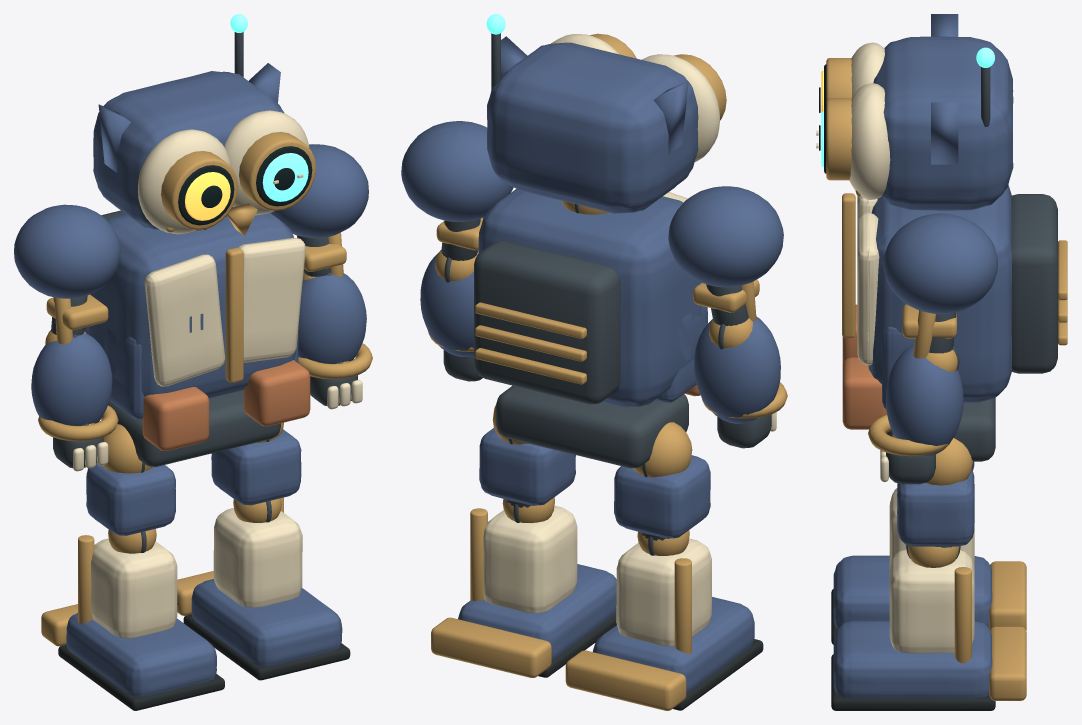
Rendered from owl_ranger.t3.glb.
3 renders of one model, left to right at view 1: azimuth 30°, elevation 25°; view 2: azimuth 150°, elevation 25°; view 3: azimuth 270°, elevation 25°, orthographic. The views are drawn at different scales.
Parts seen in each view (by area): view 1: slot_torso__clay_warm_ivory__clay, slot_torso__clay_midnight_indigo__clay, slot_legL__clay_midnight_indigo__clay, slot_legR__clay_midnight_indigo__clay, slot_head__clay_midnight_indigo__clay, slot_armL__clay_midnight_indigo__clay, slot_legR__clay_warm_ivory__clay, slot_legL__clay_warm_ivory__clay, slot_torso__burnished_copper__protected, slot_head__clay_warm_ivory__clay, armL_elbow__clay_midnight_indigo__clay, armR_elbow__clay_midnight_indigo__clay (+20 smaller); view 2: slot_head__clay_midnight_indigo__clay, slot_torso__forged_bluelead_steel__protected, slot_torso__clay_midnight_indigo__clay, slot_legL__clay_midnight_indigo__clay, slot_legR__clay_midnight_indigo__clay, slot_armL__clay_midnight_indigo__clay, slot_legL__worn_warm_brass__protected, slot_legR__clay_warm_ivory__clay, slot_armR__clay_midnight_indigo__clay, slot_legL__clay_warm_ivory__clay, slot_legR__worn_warm_brass__protected, armL_elbow__clay_midnight_indigo__clay (+13 smaller); view 3: slot_head__clay_midnight_indigo__clay, slot_legR__clay_midnight_indigo__clay, slot_torso__clay_midnight_indigo__clay, slot_torso__forged_bluelead_steel__protected, slot_armR__clay_midnight_indigo__clay, slot_legR__worn_warm_brass__protected, slot_legR__clay_warm_ivory__clay, armR_elbow__clay_midnight_indigo__clay, slot_head__clay_warm_ivory__clay, slot_legL__clay_midnight_indigo__clay, slot_torso__clay_warm_ivory__clay, slot_head__worn_warm_brass__protected (+13 smaller).
Part boxes in pixels (x1=…): slot_torso__clay_warm_ivory__clay: x1=144, y1=237, x2=305, y2=386; slot_torso__clay_midnight_indigo__clay: x1=85, y1=213, x2=298, y2=419; slot_legL__clay_midnight_indigo__clay: x1=66, y1=463, x2=216, y2=696; slot_legR__clay_midnight_indigo__clay: x1=191, y1=429, x2=342, y2=666; slot_head__clay_midnight_indigo__clay: x1=93, y1=71, x2=284, y2=229; slot_armL__clay_midnight_indigo__clay: x1=14, y1=204, x2=120, y2=298; slot_legR__clay_warm_ivory__clay: x1=213, y1=508, x2=302, y2=607; slot_legL__clay_warm_ivory__clay: x1=91, y1=538, x2=177, y2=638; slot_torso__burnished_copper__protected: x1=142, y1=360, x2=310, y2=450; slot_head__clay_warm_ivory__clay: x1=138, y1=110, x2=309, y2=234; armL_elbow__clay_midnight_indigo__clay: x1=31, y1=333, x2=112, y2=425; armR_elbow__clay_midnight_indigo__clay: x1=298, y1=273, x2=366, y2=363; slot_head__clay_midnight_indigo__clay: x1=487, y1=42, x2=698, y2=213; slot_torso__forged_bluelead_steel__protected: x1=474, y1=204, x2=688, y2=468; slot_torso__clay_midnight_indigo__clay: x1=478, y1=189, x2=707, y2=407; slot_legL__clay_midnight_indigo__clay: x1=592, y1=455, x2=754, y2=692; slot_legR__clay_midnight_indigo__clay: x1=458, y1=428, x2=616, y2=659; slot_armL__clay_midnight_indigo__clay: x1=668, y1=186, x2=783, y2=287; slot_legL__worn_warm_brass__protected: x1=565, y1=422, x2=692, y2=710; slot_legR__clay_warm_ivory__clay: x1=483, y1=506, x2=577, y2=613; slot_armR__clay_midnight_indigo__clay: x1=401, y1=121, x2=513, y2=221; slot_legL__clay_warm_ivory__clay: x1=616, y1=538, x2=711, y2=646; slot_legR__worn_warm_brass__protected: x1=431, y1=405, x2=554, y2=677; armL_elbow__clay_midnight_indigo__clay: x1=694, y1=316, x2=780, y2=423; slot_head__clay_midnight_indigo__clay: x1=873, y1=36, x2=1013, y2=210; slot_legR__clay_midnight_indigo__clay: x1=833, y1=469, x2=992, y2=698; slot_torso__clay_midnight_indigo__clay: x1=868, y1=185, x2=1012, y2=409; slot_torso__forged_bluelead_steel__protected: x1=886, y1=194, x2=1057, y2=461; slot_armR__clay_midnight_indigo__clay: x1=883, y1=213, x2=997, y2=314; slot_legR__worn_warm_brass__protected: x1=907, y1=438, x2=1026, y2=700; slot_legR__clay_warm_ivory__clay: x1=889, y1=549, x2=974, y2=653; armR_elbow__clay_midnight_indigo__clay: x1=885, y1=345, x2=963, y2=455; slot_head__clay_warm_ivory__clay: x1=849, y1=42, x2=890, y2=199; slot_legL__clay_midnight_indigo__clay: x1=833, y1=462, x2=992, y2=628; slot_torso__clay_warm_ivory__clay: x1=857, y1=196, x2=879, y2=365; slot_head__worn_warm_brass__protected: x1=826, y1=58, x2=860, y2=196.
Bounding box in the file's own units: 1.69 × 2.85 × 1.01.
